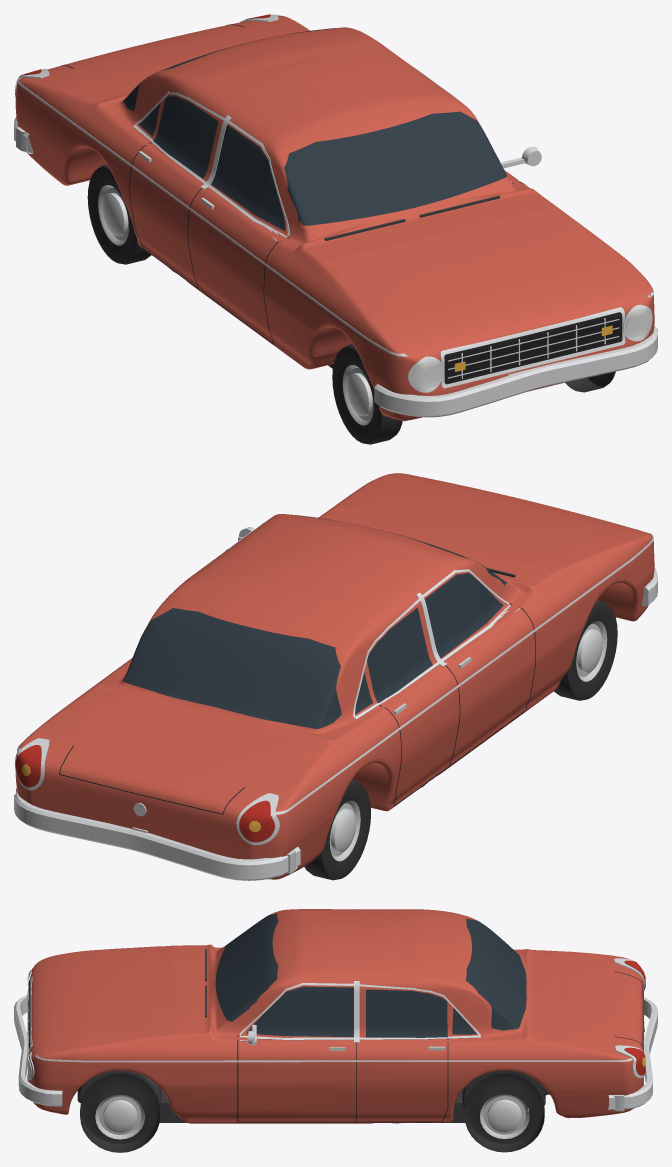
Rendered from falcon.glb.
The picture shows the model from 3 angles, top to bottom: view 1: azimuth 30°, elevation 25°; view 2: azimuth 150°, elevation 25°; view 3: azimuth 270°, elevation 25°; orthographic projection. The views are drawn at different scales.
Visible parts, largest first — view 1: paint, glass, trim, wheel_fr, wheel_rr, headlights; view 2: paint, glass, trim, wheel_fr, wheel_rr, taillights; view 3: paint, glass, trim, wheel_rl, wheel_fl, taillights.
Part boxes in pixels (bbox=[...]): paint: bbox=[15, 15, 654, 420]; glass: bbox=[123, 28, 506, 230]; trim: bbox=[14, 14, 657, 421]; wheel_fr: bbox=[332, 344, 402, 444]; wheel_rr: bbox=[87, 164, 151, 264]; headlights: bbox=[412, 309, 651, 389]; paint: bbox=[15, 473, 654, 879]; glass: bbox=[123, 514, 506, 728]; trim: bbox=[14, 473, 657, 880]; wheel_fr: bbox=[554, 600, 617, 700]; wheel_rr: bbox=[304, 780, 370, 880]; taillights: bbox=[15, 745, 274, 842]; paint: bbox=[27, 909, 643, 1123]; glass: bbox=[215, 914, 526, 1037]; trim: bbox=[14, 909, 657, 1122]; wheel_rl: bbox=[464, 1073, 544, 1152]; wheel_fl: bbox=[80, 1074, 160, 1152]; taillights: bbox=[624, 960, 645, 1075].
Bounding box in the file's own units: 1.88 × 1.39 × 4.66.
